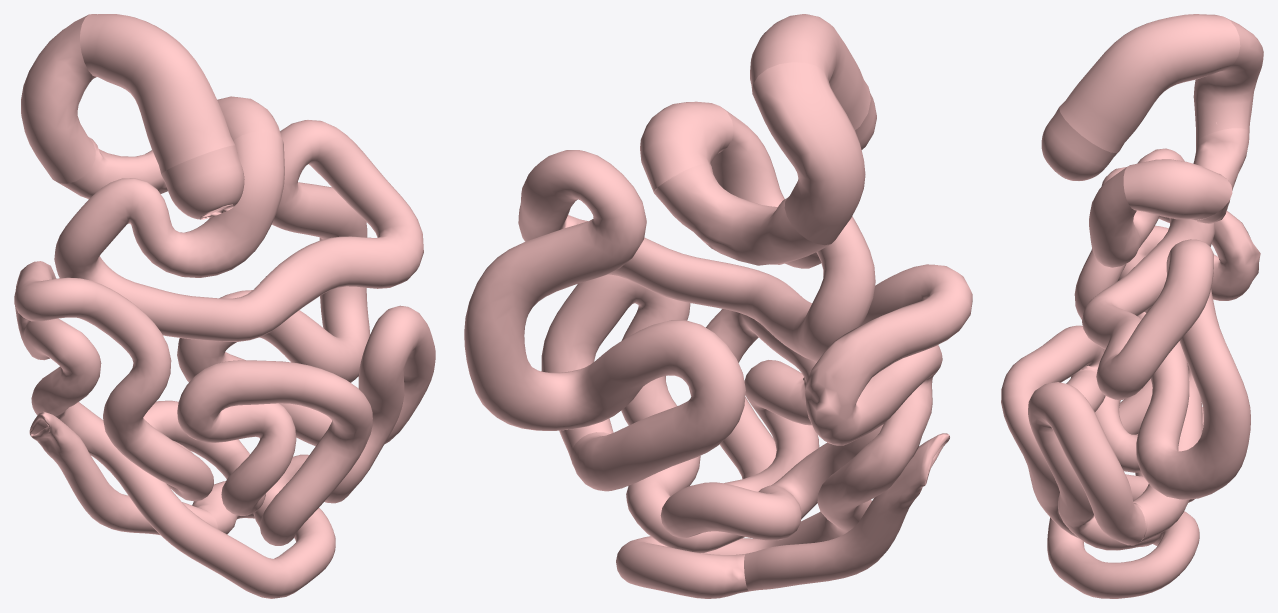
File: vh_f_small_intestine-80.fbx
The picture shows the model from 3 angles, left to right: view 1: azimuth 30°, elevation 25°; view 2: azimuth 150°, elevation 25°; view 3: azimuth 270°, elevation 25°; orthographic projection. The views are drawn at different scales.
Parts seen in each view (by area): view 1: VH_F_ileum, VH_F_jejenum, VH_F_duodenum_superior, VH_F_duodenum_descending, VH_F_ileum_terminal, VH_F_duodenal_ampulla, VH_F_duodenum_horizontal, VH_F_duodenum_ascending; view 2: VH_F_ileum, VH_F_jejenum, VH_F_duodenum_descending, VH_F_ileum_terminal, VH_F_duodenum_horizontal, VH_F_duodenum_superior, VH_F_duodenum_ascending; view 3: VH_F_jejenum, VH_F_ileum, VH_F_duodenum_superior, VH_F_duodenum_ascending, VH_F_duodenum_descending, VH_F_duodenal_ampulla, VH_F_duodenum_horizontal.
Boxes of the visible parts, x1,y1,x2,y2 form: VH_F_ileum: [14, 261, 435, 598]; VH_F_jejenum: [54, 120, 423, 446]; VH_F_duodenum_superior: [80, 14, 234, 173]; VH_F_duodenum_descending: [21, 14, 96, 183]; VH_F_ileum_terminal: [29, 411, 217, 535]; VH_F_duodenal_ampulla: [161, 145, 244, 219]; VH_F_duodenum_horizontal: [59, 137, 167, 198]; VH_F_duodenum_ascending: [217, 96, 281, 140]; VH_F_ileum: [541, 264, 972, 598]; VH_F_jejenum: [464, 107, 875, 491]; VH_F_duodenum_descending: [752, 62, 865, 245]; VH_F_ileum_terminal: [744, 433, 949, 591]; VH_F_duodenum_horizontal: [654, 163, 830, 265]; VH_F_duodenum_superior: [750, 14, 870, 130]; VH_F_duodenum_ascending: [640, 101, 733, 193]; VH_F_jejenum: [1082, 148, 1250, 542]; VH_F_ileum: [1001, 167, 1260, 598]; VH_F_duodenum_superior: [1059, 14, 1240, 153]; VH_F_duodenum_ascending: [1123, 159, 1232, 219]; VH_F_duodenum_descending: [1193, 17, 1263, 142]; VH_F_duodenal_ampulla: [1041, 108, 1119, 180]; VH_F_duodenum_horizontal: [1193, 128, 1249, 223].
Bounding box in the file's own units: 16.16 × 21.72 × 10.
